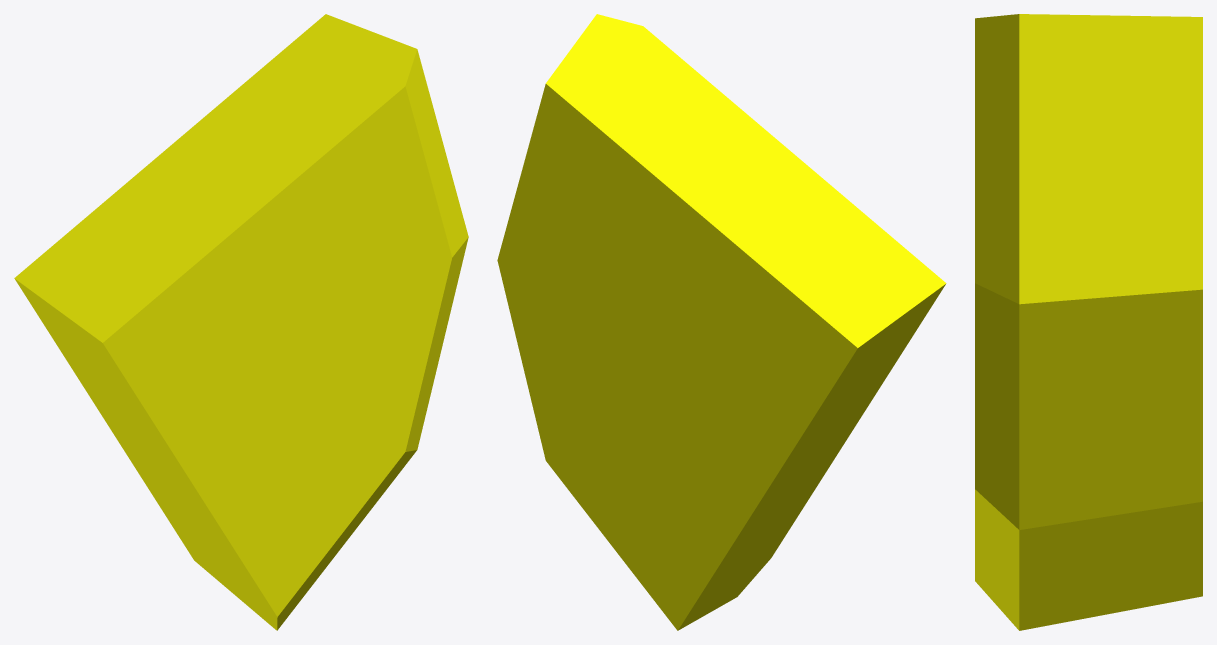
File: kaykit-target-pieces-b.glb
3 views of the same model, side by side, from view 1: azimuth 30°, elevation 25°; view 2: azimuth 150°, elevation 25°; view 3: azimuth 270°, elevation 25° (orthographic). The views are drawn at different scales.
Parts seen in each view (by area): view 1: target_pieces_B; view 2: target_pieces_B; view 3: target_pieces_B.
Part boxes in pixels (left/top/right/bottom): target_pieces_B: left=14, top=14, right=468, bottom=630; target_pieces_B: left=497, top=14, right=946, bottom=630; target_pieces_B: left=975, top=14, right=1202, bottom=630.
Size of the model in its own units: 0.5 by 0.683 by 0.2.
